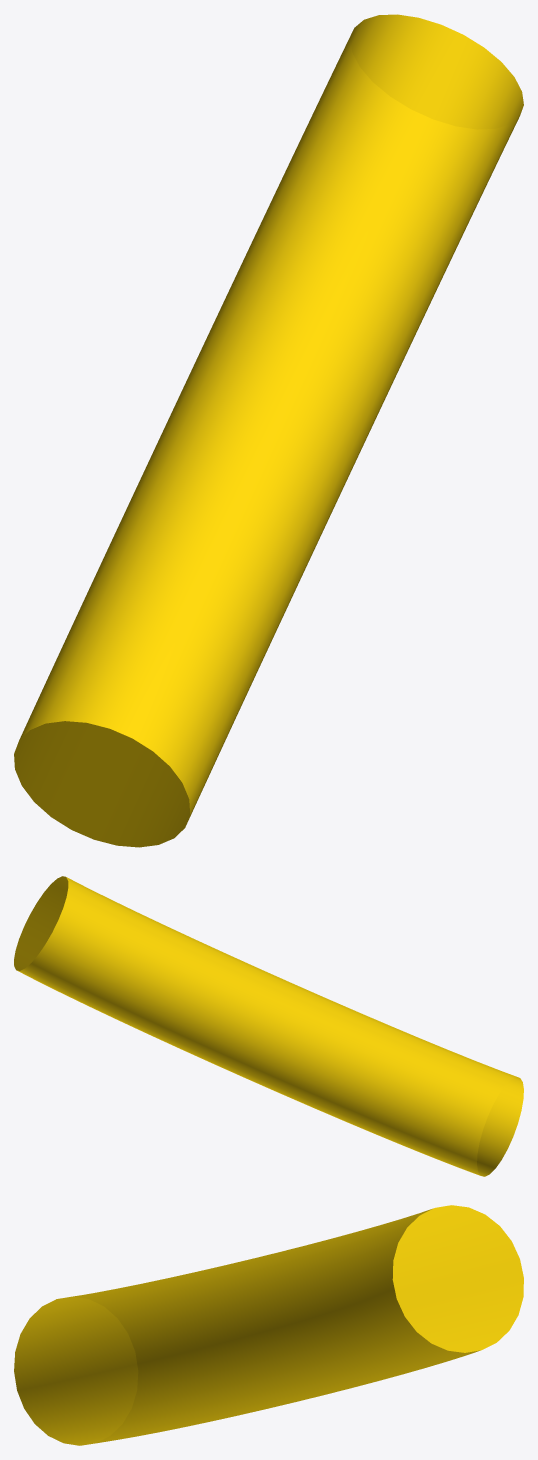
The model's file is Event_421115418_track_74.fbx.
3 views of the same model, one above another, from view 1: azimuth 30°, elevation 25°; view 2: azimuth 150°, elevation 25°; view 3: azimuth 270°, elevation 25° (orthographic). The views are drawn at different scales.
Parts seen in each view (by area): view 1: Model; view 2: Model; view 3: Model.
Part boxes in pixels (x1,y1,x2,y2): Model: [14, 14, 523, 847]; Model: [14, 876, 523, 1176]; Model: [14, 1205, 523, 1445].
Bounding box in the file's own units: 0.1691 × 0.1282 × 0.1361.
